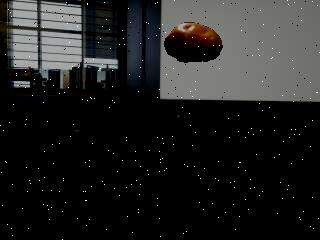Potato: (165, 22, 224, 62)
